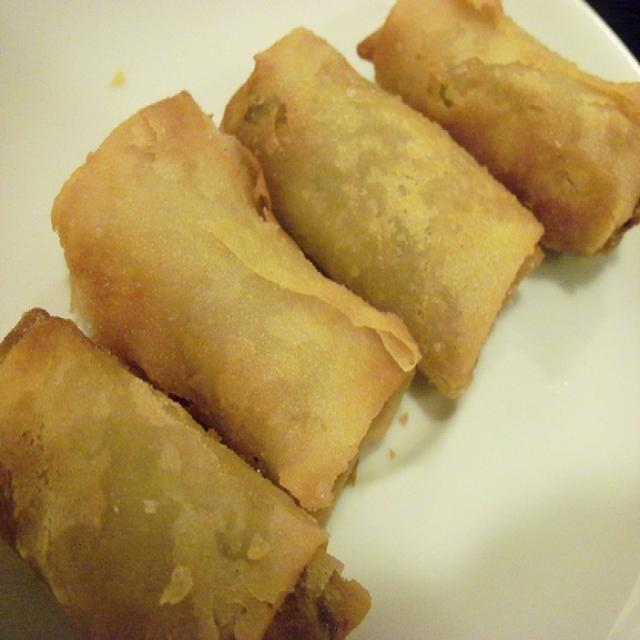炸货点心: (21, 4, 628, 612)
